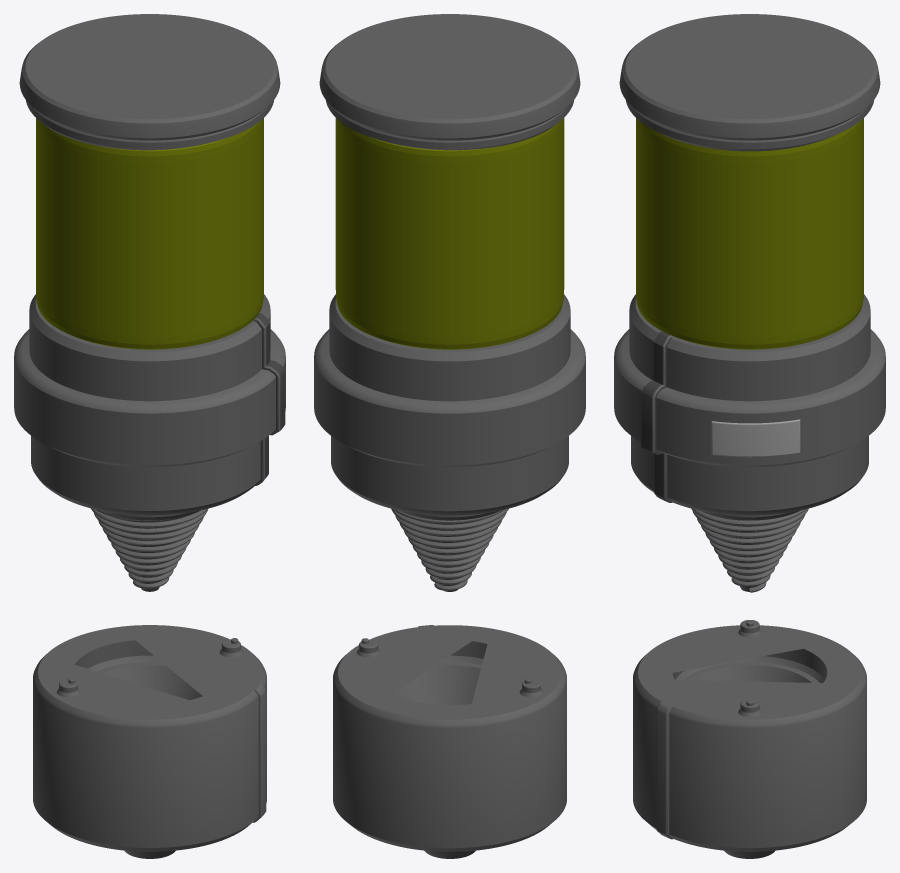
The model's file is Battery_Full.fbx.
The picture shows the model from 3 angles, left to right: view 1: azimuth 30°, elevation 25°; view 2: azimuth 150°, elevation 25°; view 3: azimuth 270°, elevation 25°; orthographic projection.
Parts seen in each view (by area): view 1: Cylinder, Cylinder.002, Cylinder.001; view 2: Cylinder, Cylinder.002, Cylinder.001; view 3: Cylinder, Cylinder.002, Cylinder.001.
Boxes of the visible parts, box(x1,y1,x2,y2) form: Cylinder: box(14, 14, 285, 591); Cylinder.002: box(33, 625, 266, 858); Cylinder.001: box(36, 118, 263, 349); Cylinder: box(314, 14, 585, 591); Cylinder.002: box(333, 625, 566, 858); Cylinder.001: box(335, 118, 564, 349); Cylinder: box(614, 14, 885, 592); Cylinder.002: box(633, 620, 866, 858); Cylinder.001: box(636, 118, 863, 349).
Bounding box in the file's own units: 114 × 361 × 114.
